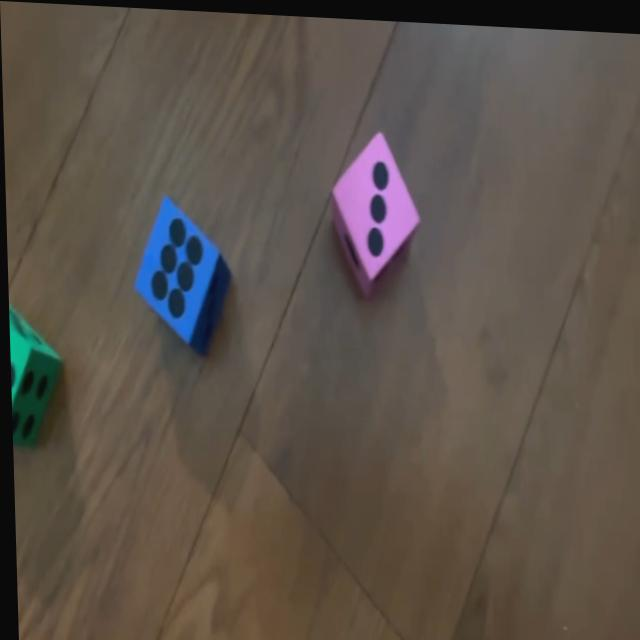cube: (132, 188, 227, 350), (7, 301, 57, 444)
